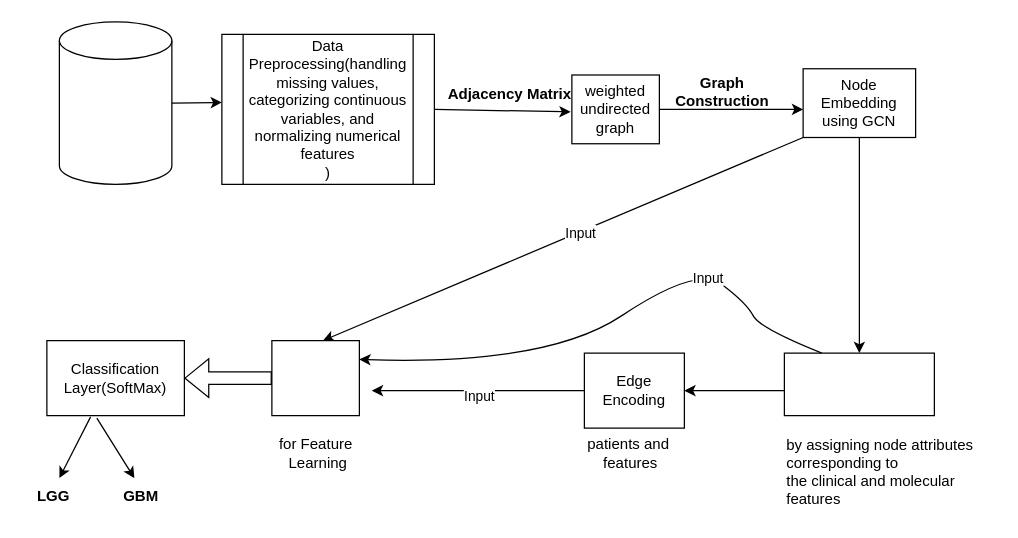
This 1018x538 diagram has some shape labels left out. The centre of each missing label's shape, as x and y in pixels:
"GCN" goes at pixel 315 377.
"Glioma Grading Clinical and Mutation Features Dataset" goes at pixel 115 102.
"Node Attribute Encoding" goes at pixel 858 384.
